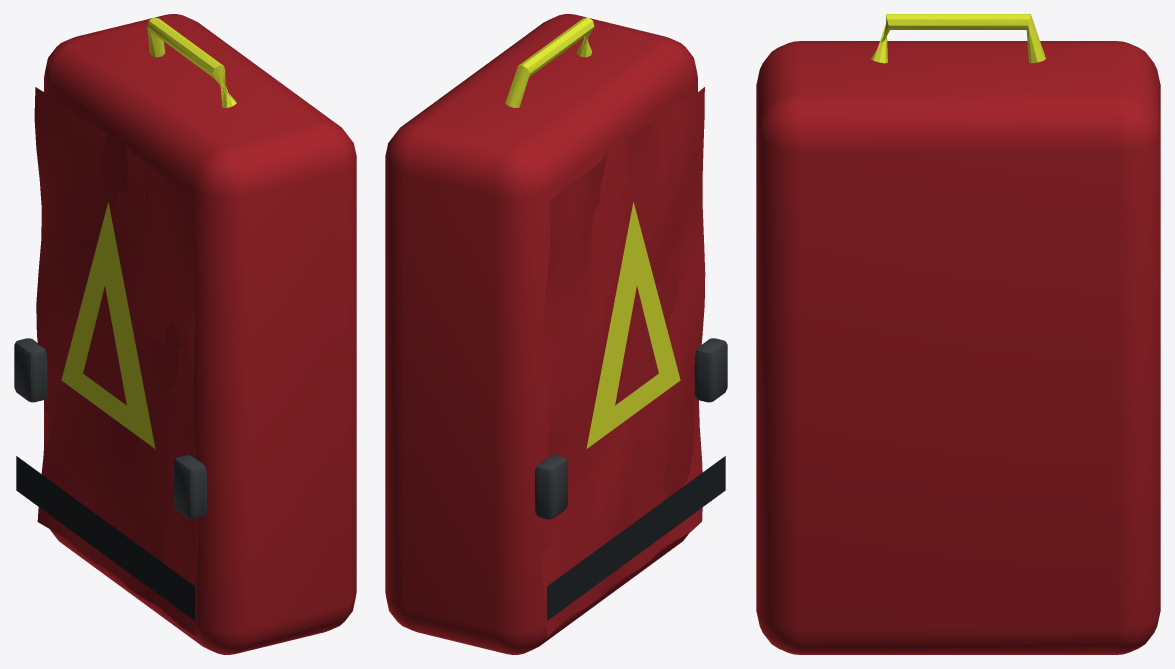
File: cabin_red_bag.glb
3 views of the same model, side by side, from view 1: azimuth 30°, elevation 25°; view 2: azimuth 150°, elevation 25°; view 3: azimuth 270°, elevation 25° (orthographic). The views are drawn at different scales.
Visible parts, largest first — view 1: cabin_red_bag; view 2: cabin_red_bag; view 3: cabin_red_bag.
Boxes of the visible parts, x1,y1,x2,y2 form: cabin_red_bag: (14, 14, 356, 654); cabin_red_bag: (385, 14, 727, 654); cabin_red_bag: (756, 14, 1160, 654).
Size of the model in its own units: 0.259 by 0.7597 by 0.46.
